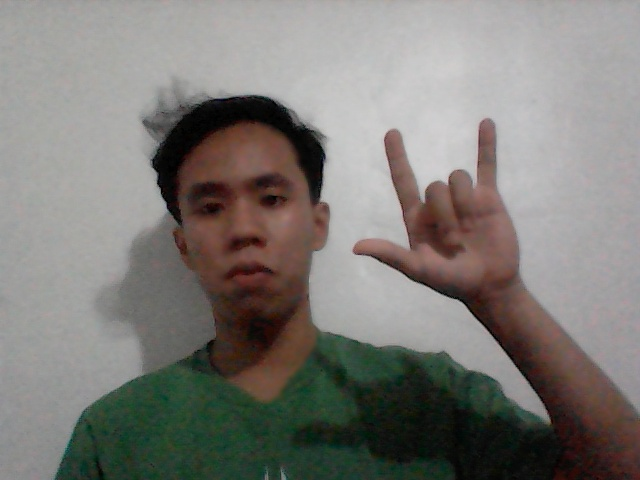I Love You: (337, 100, 553, 327)
